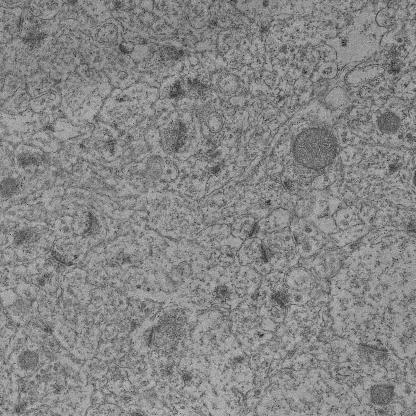mitochondria: (290, 124, 338, 171), (375, 110, 403, 136), (366, 382, 396, 406), (15, 346, 41, 372)
